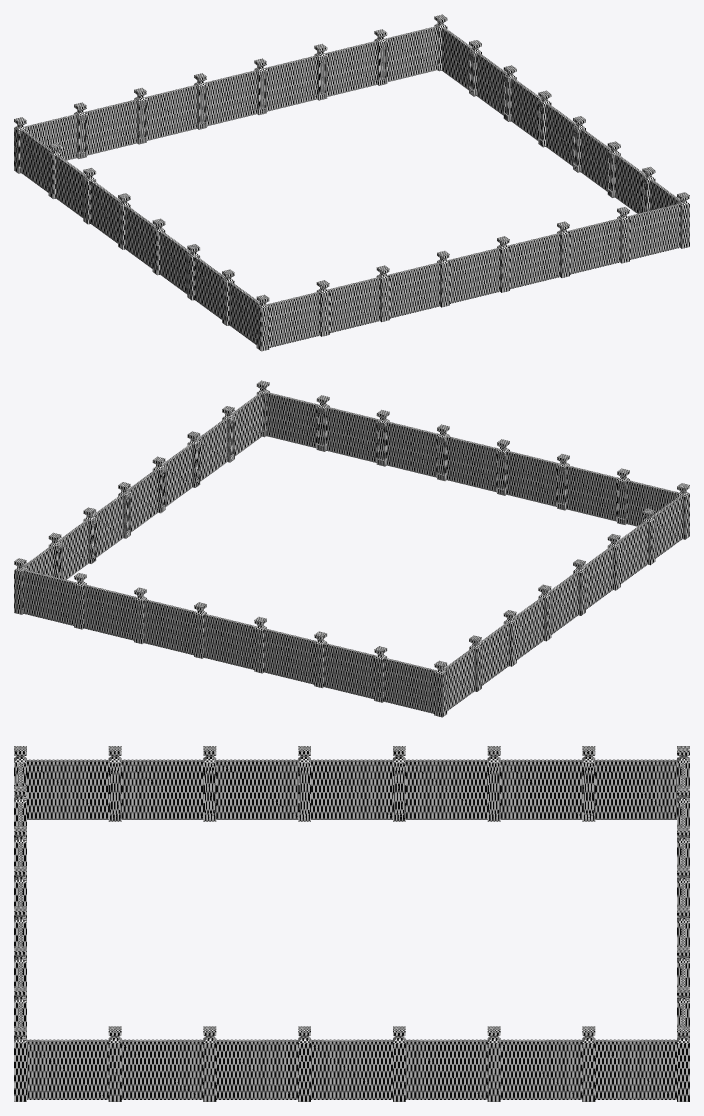
Rendered from Solbourg_Muraille.fbx.
3 renders of one model, top to bottom at view 1: azimuth 30°, elevation 25°; view 2: azimuth 150°, elevation 25°; view 3: azimuth 270°, elevation 25°, orthographic. The views are drawn at different scales.
Parts seen in each view (by area): view 1: Muraille; view 2: Muraille; view 3: Muraille.
Boxes of the visible parts, bbox=[...] form: Muraille: bbox=[14, 14, 689, 351]; Muraille: bbox=[14, 380, 689, 717]; Muraille: bbox=[14, 746, 689, 1101].
Size of the model in its own units: 7850 by 900 by 7850.
1 material, 1 textured.
